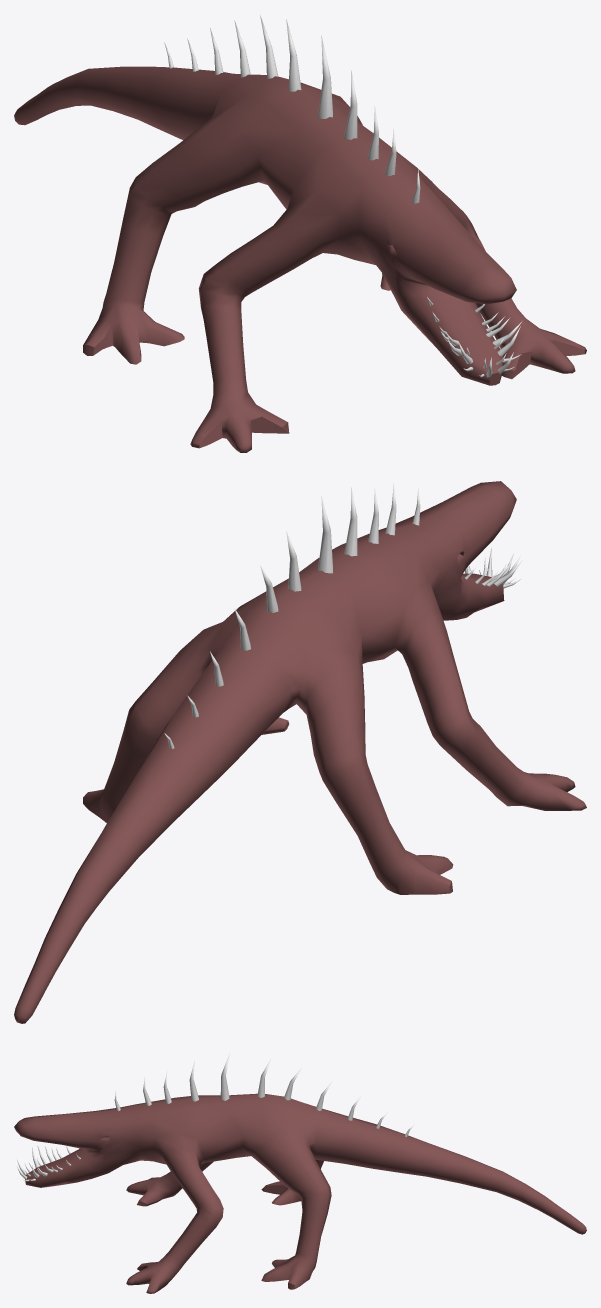
Rendered from SK_Doggo.fbx.
3 views of the same model, one above another, from view 1: azimuth 30°, elevation 25°; view 2: azimuth 150°, elevation 25°; view 3: azimuth 270°, elevation 25° (orthographic). The views are drawn at different scales.
Parts seen in each view (by area): view 1: SK_Doggo, Cone017; view 2: SK_Doggo, Cone017; view 3: SK_Doggo.
Part boxes in pixels (x1=…): SK_Doggo: x1=14, y1=66, x2=586, y2=452; Cone017: x1=318, y1=35, x2=332, y2=118; SK_Doggo: x1=14, y1=481, x2=586, y2=1023; Cone017: x1=318, y1=496, x2=332, y2=573; SK_Doggo: x1=14, y1=1093, x2=586, y2=1293.
Bounding box in the file's own units: 96.12 × 73.3 × 205.
